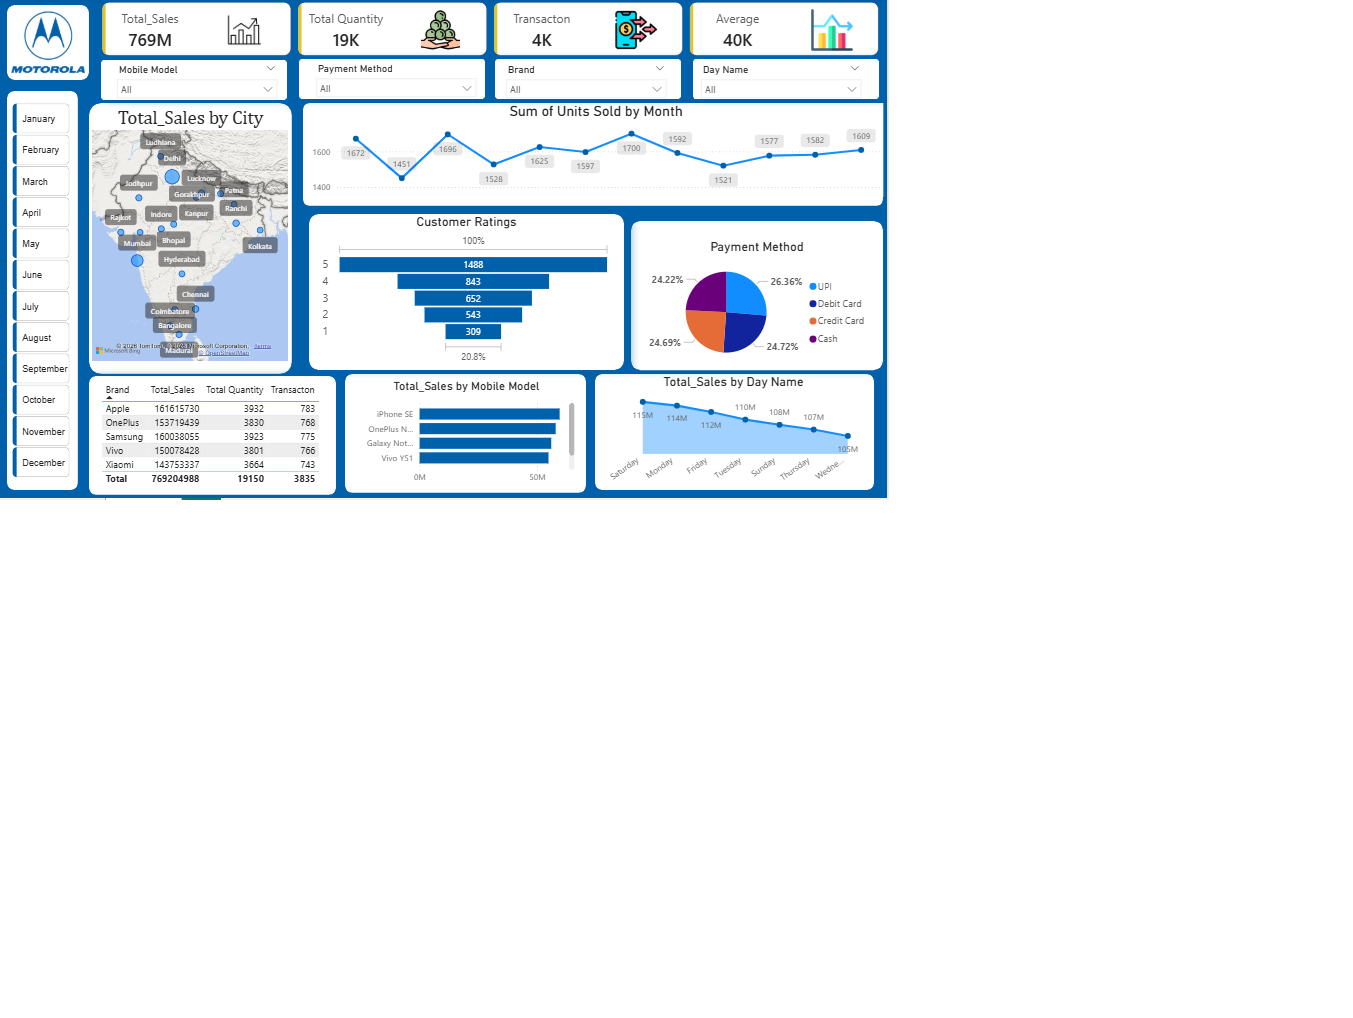

This screenshot's page, from the dashboard's own definition file:
{"tool":"powerbi","page":{"name":"Page 1","canvas":[1280,720],"ordinal":0},"visuals":[{"type":"shape","box":[11.5,10.1,118.1,108],"z":0},{"type":"image","box":[5.8,10.1,129.6,106.6],"z":1000},{"type":"shape","box":[11.5,133.9,102.2,574.6],"z":2000},{"type":"advancedSlicerVisual","fields":{"Values":["Sheet1.Date.Variation.Date Hierarchy.Month"]},"box":[14.4,146.9,92.2,548.6],"z":3000},{"type":"cardVisual","fields":{"Data":["Sales_Data.Total_Sales","Sales_Data.Total Quantity","Sales_Data.Transacton","Sales_Data.Average"]},"box":[142.6,0,1130.4,89.3],"z":4000},{"type":"shape","box":[129.6,151.2,292.3,390.2],"z":5000},{"type":"map","fields":{"Category":["Sales_Data.City"],"Size":["Sales_Data.Total_Sales"]},"box":[129.6,158.4,292.3,368.6],"z":6000},{"type":"shape","box":[129.6,544.3,355.7,171.4],"z":7000},{"type":"tableEx","fields":{"Values":["Sales_Data.Brand","Sales_Data.Total_Sales","Sales_Data.Total Quantity","Sales_Data.Transacton"]},"box":[142.6,548.6,329.8,164.2],"z":8000},{"type":"shape","box":[498.2,541.4,347,171.4],"z":9000},{"type":"barChart","fields":{"Category":["Sales_Data.Mobile Model"],"Y":["Sales_Data.Total_Sales"]},"box":[512.6,548.6,321.1,159.8],"z":10000},{"type":"shape","box":[858.2,541.4,401.8,167],"z":11000},{"type":"areaChart","fields":{"Category":["Sales_Data.Day Name"],"Y":["Sales_Data.Total_Sales"]},"box":[868.3,541.4,378.7,167],"z":12000},{"type":"shape","box":[910.1,321.1,362.9,214.6],"z":13000},{"type":"pieChart","title":"  Payment Method","fields":{"Category":["Sales_Data.Payment Method"],"Y":["CountNonNull(Sales_Data.Transaction ID)"]},"box":[923,347,337,188.6],"z":14000},{"type":"shape","box":[446.4,311,453.6,224.6],"z":15000},{"type":"funnel","title":" Customer Ratings","fields":{"Category":["Sales_Data.Customer Ratings"],"Y":["CountNonNull(Sales_Data.Customer Ratings)"]},"box":[460.8,311,424.8,220.3],"z":16000},{"type":"shape","box":[437.8,151.2,835.2,148.3],"z":17000},{"type":"lineChart","fields":{"Category":["Sales_Data.Date.Variation.Date Hierarchy.Month","Sales_Data.Date.Variation.Date Hierarchy.Day"],"Y":["Sum(Sales_Data.Units Sold)"]},"box":[446.4,151.2,826.6,135.4],"z":18000},{"type":"shape","box":[146.9,89.3,267.8,57.6],"z":19000},{"type":"shape","box":[432,87.8,267.8,57.6],"z":20000},{"type":"shape","box":[714.2,87.8,267.8,57.6],"z":21000},{"type":"shape","box":[999.4,87.8,267.8,57.6],"z":22000},{"type":"slicer","fields":{"Values":["Sales_Data.Mobile Model"]},"box":[159.8,89.3,250.6,56.2],"z":23000},{"type":"slicer","fields":{"Values":["Sales_Data.Payment Method"]},"box":[446.4,87.8,250.6,56.2],"z":24000},{"type":"slicer","fields":{"Values":["Sales_Data.Brand"]},"box":[720,89.3,250.6,56.2],"z":25000},{"type":"slicer","fields":{"Values":["Sales_Data.Day Name"]},"box":[1000.8,89.3,250.6,56.2],"z":26000}]}

Visuals, with their boxes on the page's 1280x720 design canvas (x1, y1, x2, y2). These are canvas units, not pixel positions in the 1353x1018 screenshot, which may show the page scaled, cropped or inside an application window:
shape: rect(12, 10, 130, 118)
image: rect(6, 10, 135, 117)
shape: rect(12, 134, 114, 708)
advancedSlicerVisual - Sheet1.Date.Variation.Date Hierarchy.Month: rect(14, 147, 107, 696)
cardVisual - Sales_Data.Total_Sales x Sales_Data.Total Quantity: rect(143, 0, 1273, 89)
shape: rect(130, 151, 422, 541)
map - Sales_Data.City x Sales_Data.Total_Sales: rect(130, 158, 422, 527)
shape: rect(130, 544, 485, 716)
tableEx - Sales_Data.Brand x Sales_Data.Total_Sales: rect(143, 549, 472, 713)
shape: rect(498, 541, 845, 713)
barChart - Sales_Data.Mobile Model x Sales_Data.Total_Sales: rect(513, 549, 834, 708)
shape: rect(858, 541, 1260, 708)
areaChart - Sales_Data.Day Name x Sales_Data.Total_Sales: rect(868, 541, 1247, 708)
shape: rect(910, 321, 1273, 536)
"  Payment Method" pieChart: rect(923, 347, 1260, 536)
shape: rect(446, 311, 900, 536)
" Customer Ratings" funnel: rect(461, 311, 886, 531)
shape: rect(438, 151, 1273, 300)
lineChart - Sales_Data.Date.Variation.Date Hierarchy.Month x Sales_Data.Date.Variation.Date Hierarchy.Day: rect(446, 151, 1273, 287)
shape: rect(147, 89, 415, 147)
shape: rect(432, 88, 700, 145)
shape: rect(714, 88, 982, 145)
shape: rect(999, 88, 1267, 145)
slicer - Sales_Data.Mobile Model: rect(160, 89, 410, 146)
slicer - Sales_Data.Payment Method: rect(446, 88, 697, 144)
slicer - Sales_Data.Brand: rect(720, 89, 971, 146)
slicer - Sales_Data.Day Name: rect(1001, 89, 1251, 146)
